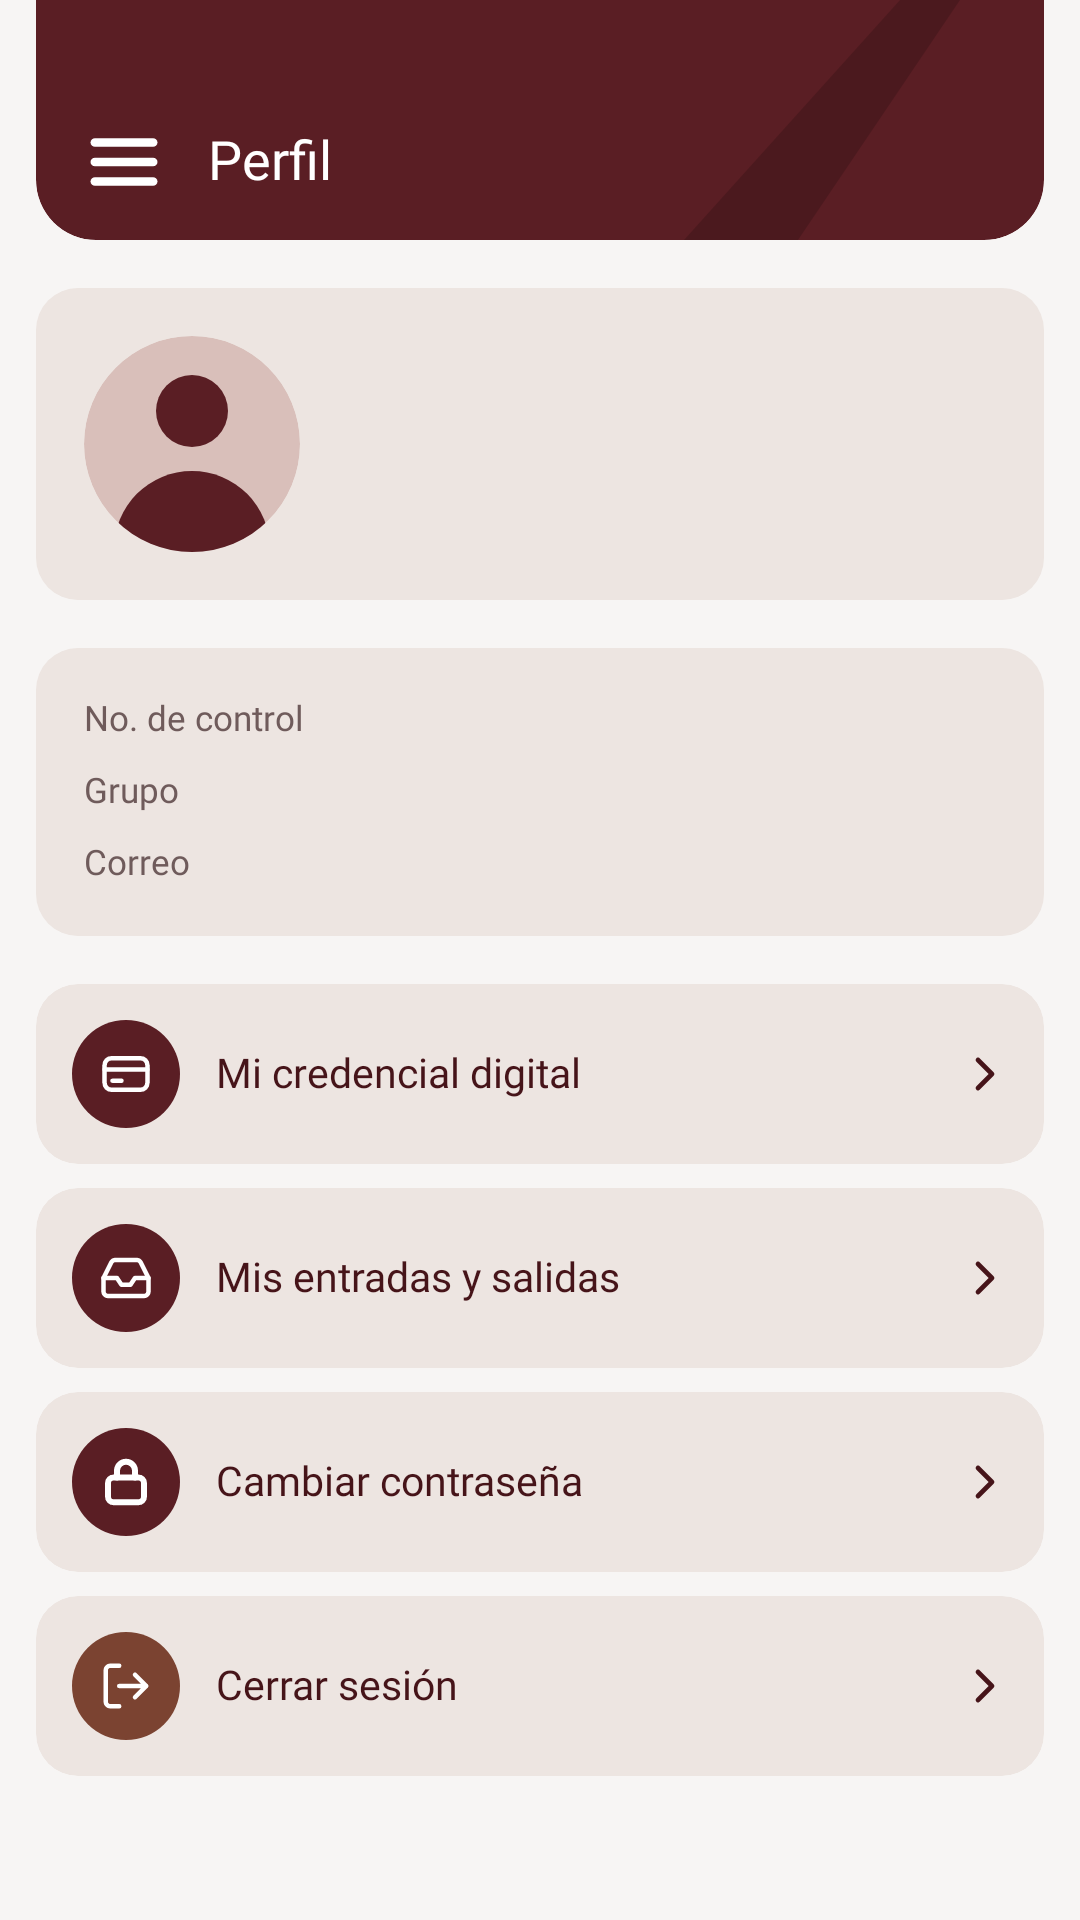

Point at icon controls on the screen. Image size 1080px x 1920px, points as [x,y].
id card: [126,1074]
inbox: [126,1278]
lock: [126,1482]
log out: [126,1686]
